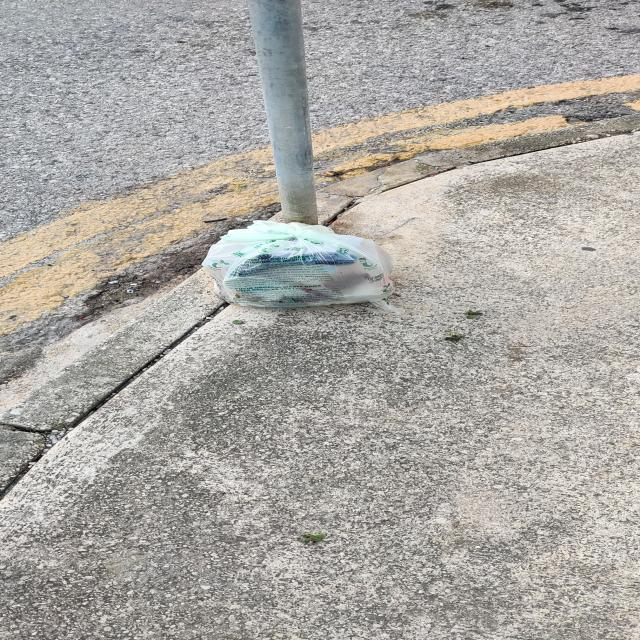Organic Waste -White Bags-: (200, 222, 404, 306)
